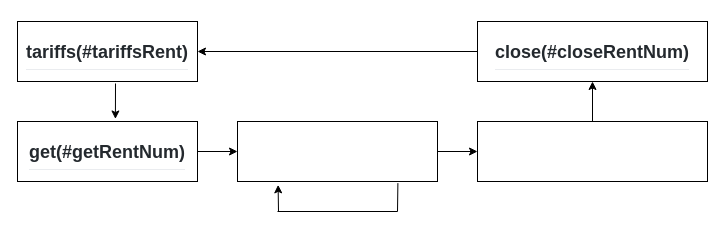
The diagram is 725 pixels wide and 237 high, and some of its shapes have lost their labels. Each missing label, with the centre of its shape:
extend(#extendRentState): the point at 592,151
state(#getRentState): the point at 337,151
